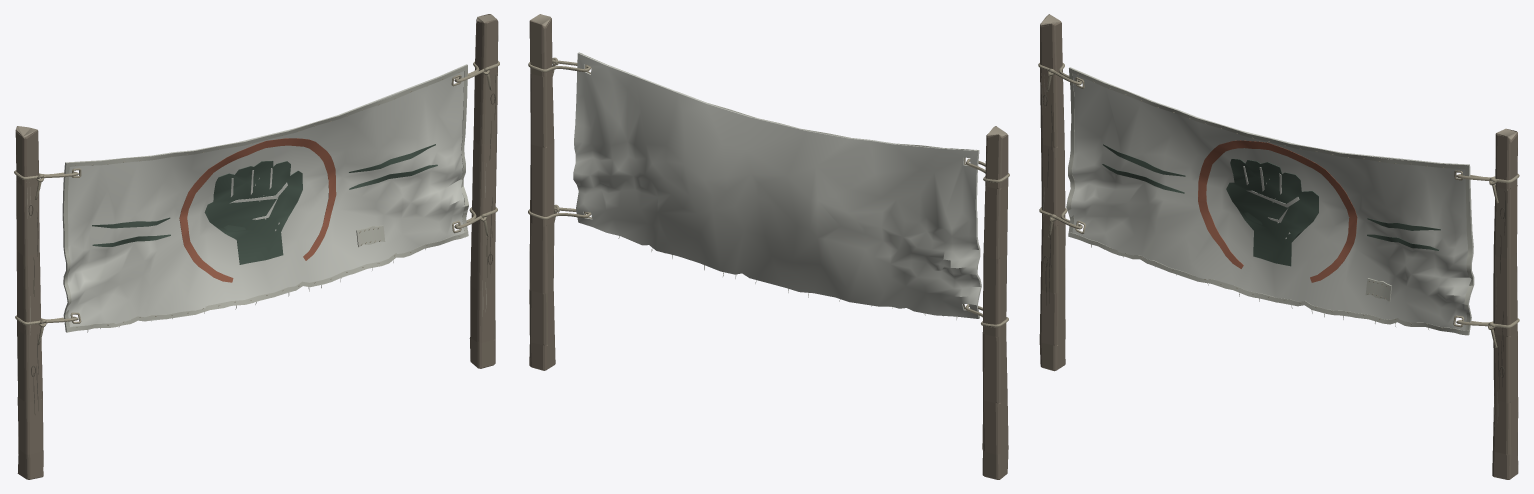
Rendered from protest_banner-CoKgBbsy.glb.
The picture shows the model from 3 angles, left to right: view 1: azimuth 30°, elevation 25°; view 2: azimuth 150°, elevation 25°; view 3: azimuth 330°, elevation 25°; orthographic projection.
Parts seen in each view (by area): view 1: Body; view 2: Body; view 3: Body.
Boxes of the visible parts, left/top/right/bottom form: Body: left=14, top=14, right=499, bottom=479; Body: left=528, top=14, right=1009, bottom=479; Body: left=1038, top=14, right=1519, bottom=479.
Size of the model in its own units: 2 by 1.39 by 0.1409.
